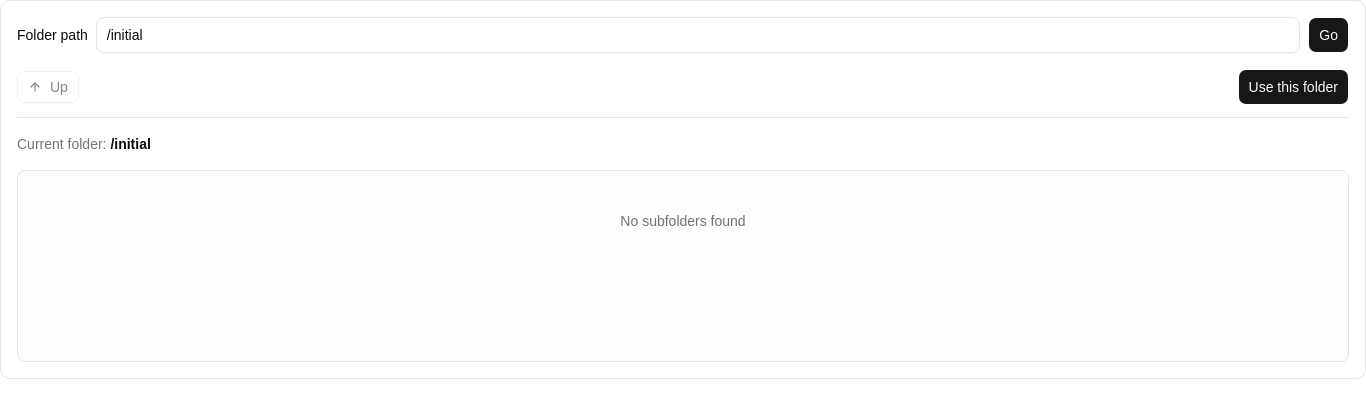
Test case: FolderBrowserInput › keeps typed text in the box and shows the error when Go is clicked with a nonexistent path
Expected: the text "/initial" is shown, [110, 136, 151, 152]
Replace the text in the field labelled "Folder path" with "/nonexistent": (698, 35) [96, 17, 1300, 53]
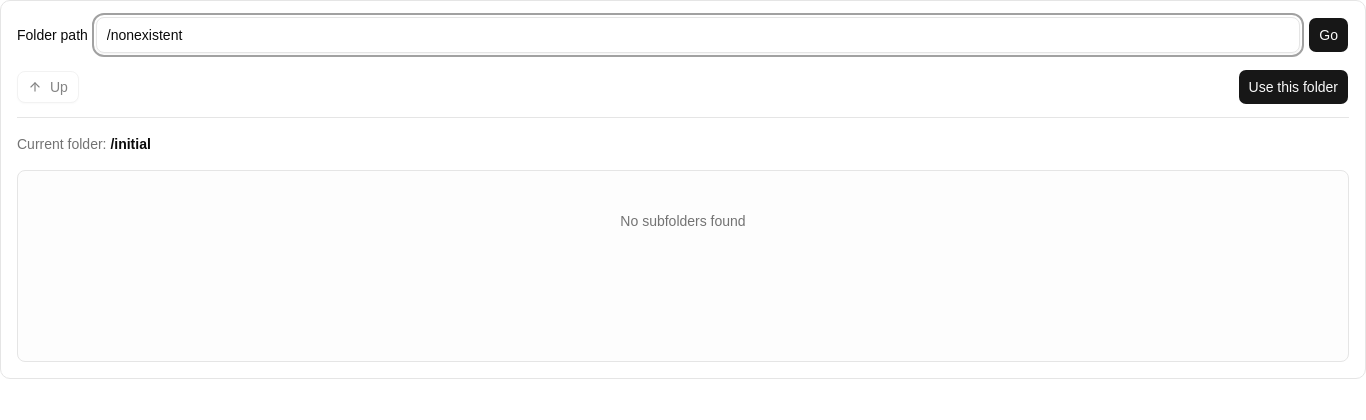
Click the button "Go": (1329, 35) [1308, 17, 1349, 53]
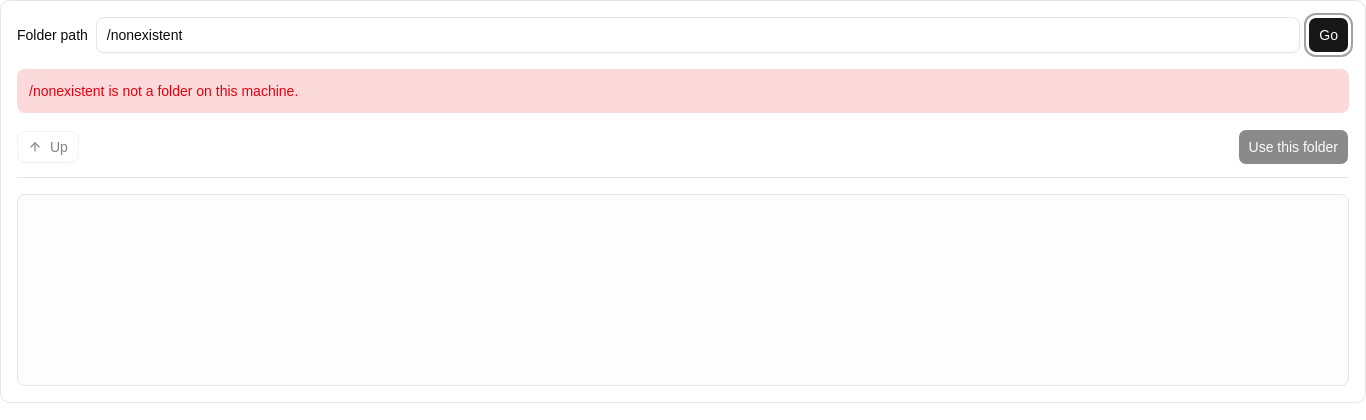
Expected: the text "/nonexistent is not a folder on this machine." is shown, [17, 69, 1349, 113]
